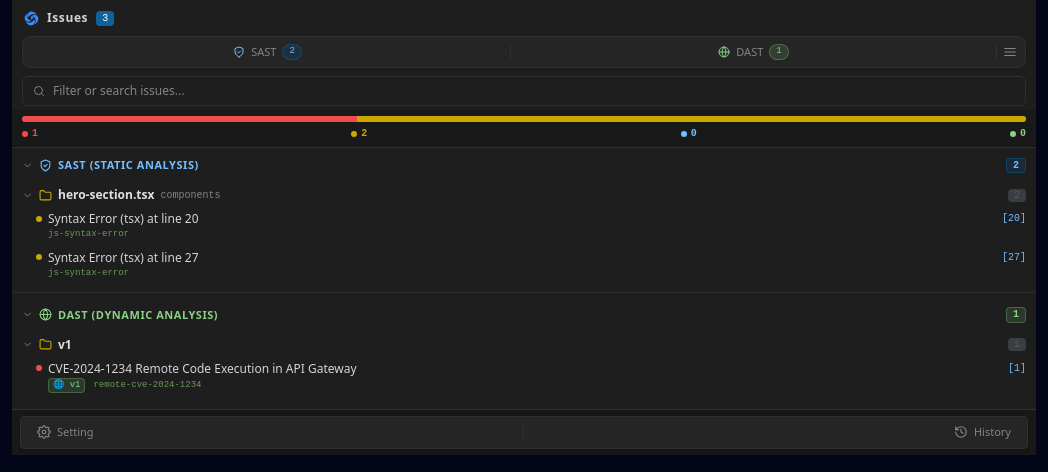
Test case: IssueTreeSidebar › renders both SAST and DAST sections in All mode and allows collapse/expand
Expected: the text "DAST (Dynamic Analysis)" is shown, left=58, top=308, right=218, bottom=322
Expected: the text "Syntax Error (tsx) at line 20" is shown, left=48, top=210, right=198, bottom=227
// Collapse SAST section
Click the text "SAST (Static Analysis)": {"x": 128, "y": 166} left=58, top=158, right=199, bottom=173
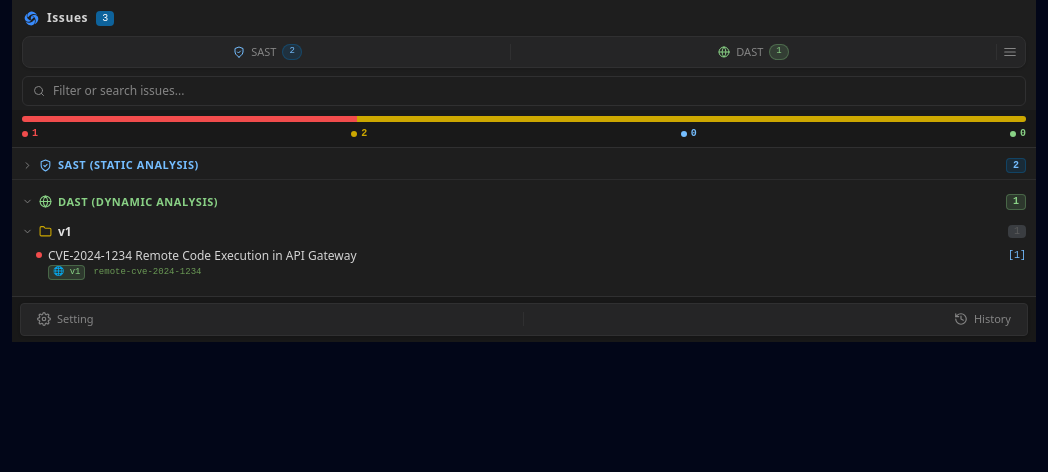
Expected: the text "CVE-2024-1234 Remote Code Execution in API Gateway" is shown, left=48, top=247, right=357, bottom=264
Expected: the button "Syntax Error (tsx) at line 20" is gone
// Collapse DAST section
Click the text "DAST (Dynamic Analysis)": {"x": 138, "y": 202} left=58, top=195, right=218, bottom=209
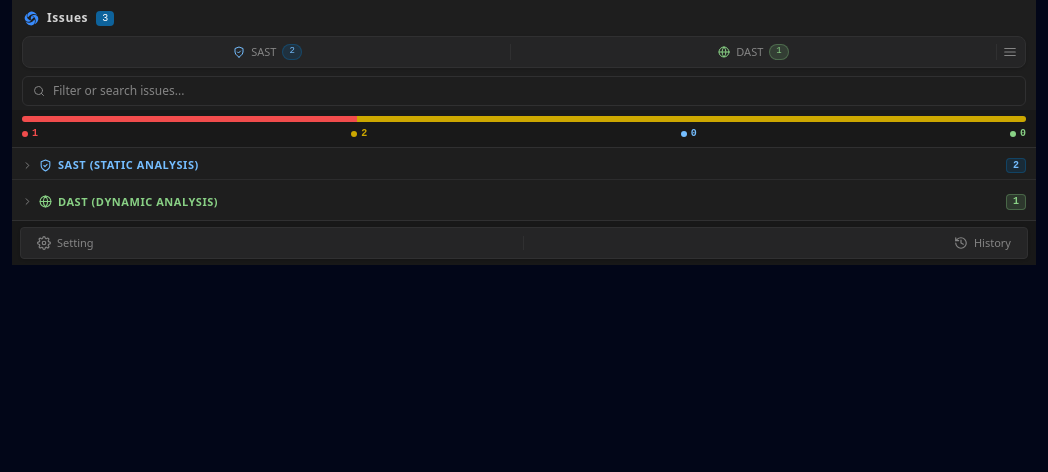
Expected: the button "CVE-2024-1234 Remote Code Execution in API Gateway" is gone
